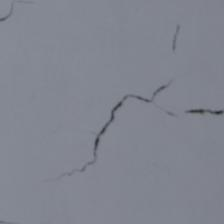Crack: (42, 104, 135, 120), (84, 7, 116, 28), (108, 22, 126, 53), (76, 55, 105, 66)
